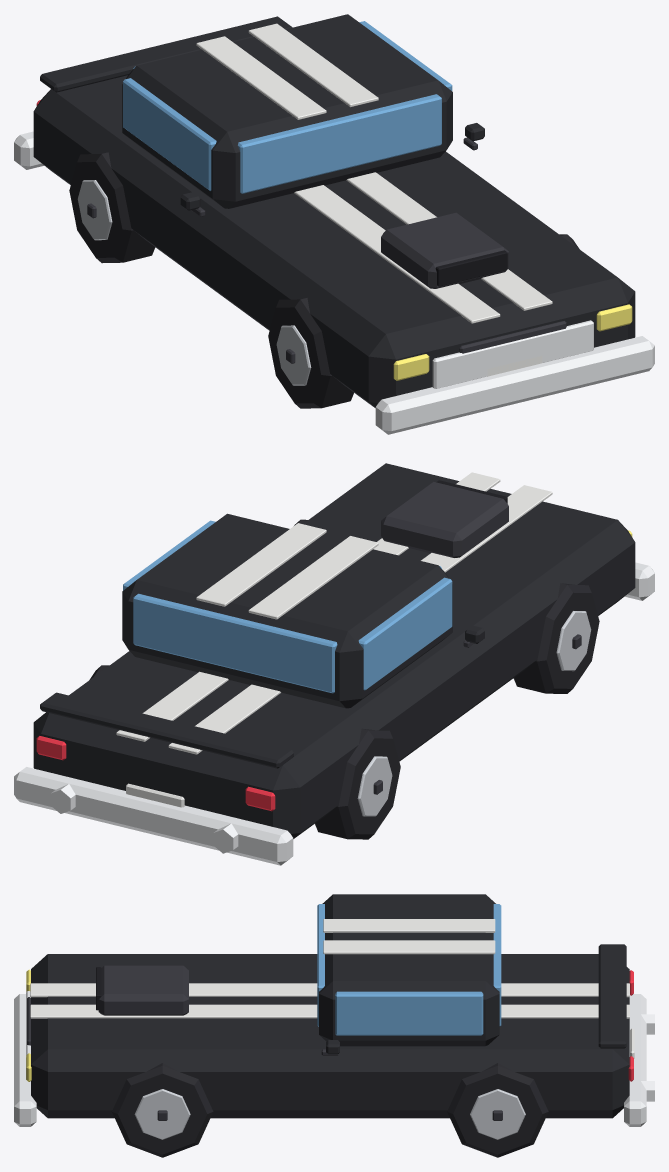
The model's file is BlackMuscleCar.fbx.
3 renders of one model, top to bottom at view 1: azimuth 30°, elevation 25°; view 2: azimuth 150°, elevation 25°; view 3: azimuth 270°, elevation 25°, orthographic. The views are drawn at different scales.
Visible parts, largest first — view 1: BlackMuscleCar, BlackMuscleCar_WheelFR, BlackMuscleCar_WheelBR; view 2: BlackMuscleCar, BlackMuscleCar_WheelBR, BlackMuscleCar_WheelFR; view 3: BlackMuscleCar, BlackMuscleCar_WheelBL, BlackMuscleCar_WheelFL.
Part boxes in pixels (x1,y1,x2,y2): BlackMuscleCar: (14,14,654,434); BlackMuscleCar_WheelFR: (268,298,353,408); BlackMuscleCar_WheelBR: (69,152,155,263); BlackMuscleCar: (14,463,654,865); BlackMuscleCar_WheelBR: (315,728,400,839); BlackMuscleCar_WheelFR: (513,583,599,693); BlackMuscleCar: (14,894,654,1126); BlackMuscleCar_WheelBL: (447,1063,548,1157); BlackMuscleCar_WheelFL: (111,1063,213,1157).
Bounding box in the file's own units: 5.15 × 3.28 × 11.35.
1 material, 1 textured.
